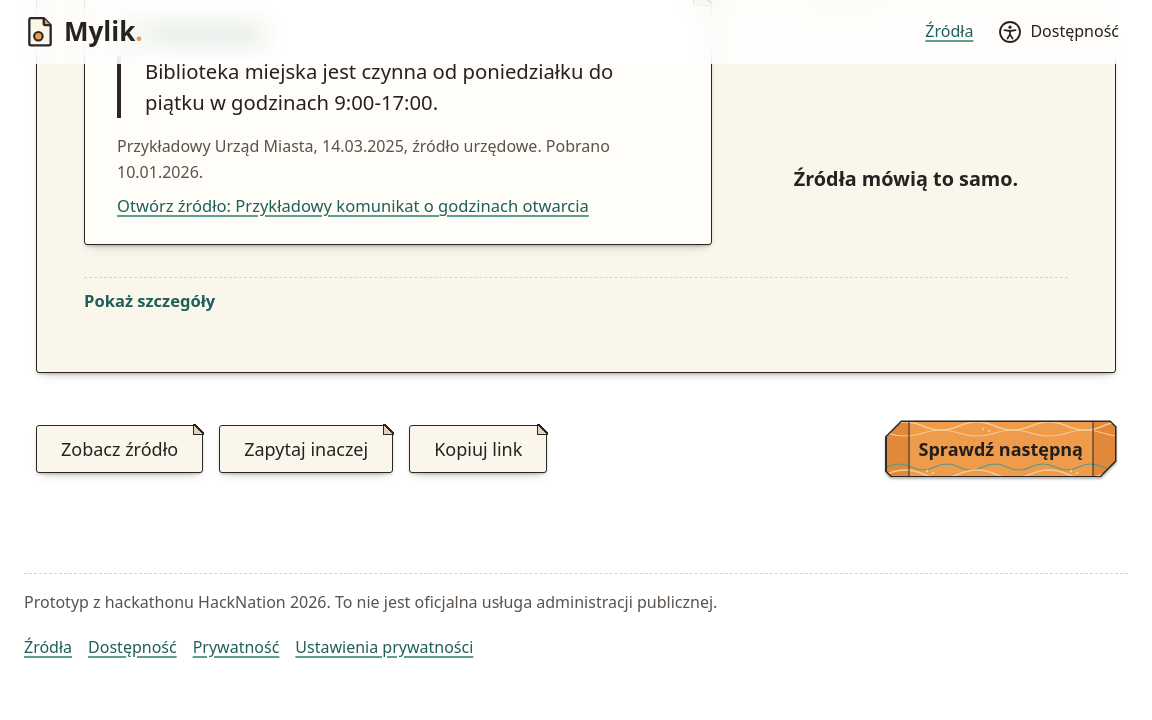
Test: arkusz wyniku: przyciski i nawigacja › "Sprawdź następną" otwiera pusty formularz z fokusem w polu
(page scrolled)
What coordinates should you click on to do the following:
click the link "Sprawdź następną"
I would click on:
 (1001, 448)
Its box is [918,436,1083,460].
(page scrolled)
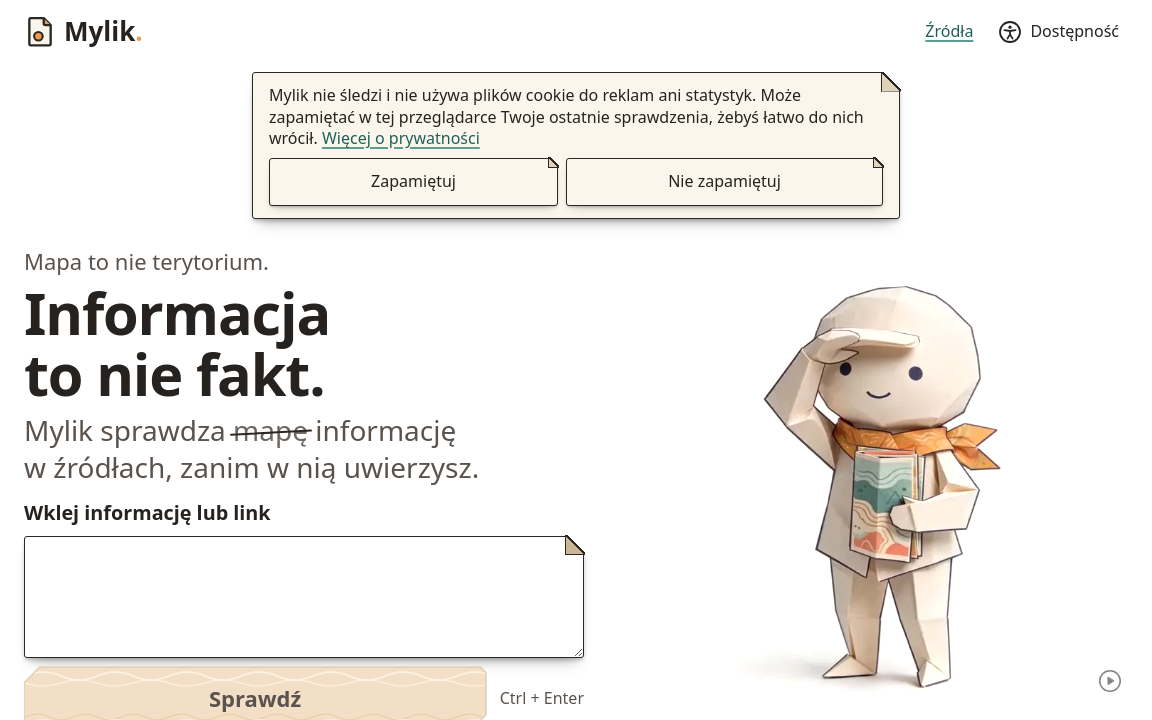
Check: the text box labelled "Wklej informację lub link" is empty, box [25,537,583,657]
